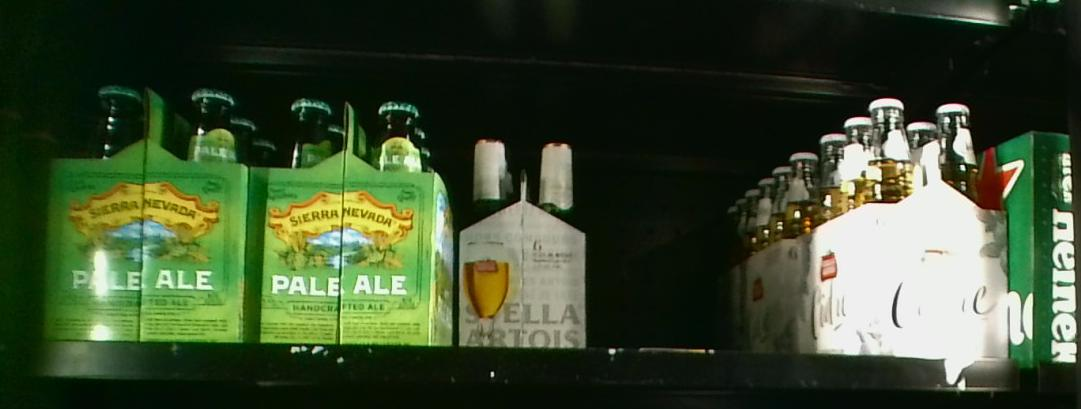bottle: (43, 78, 249, 348), (252, 91, 456, 348), (851, 95, 1008, 355), (456, 127, 586, 347)
